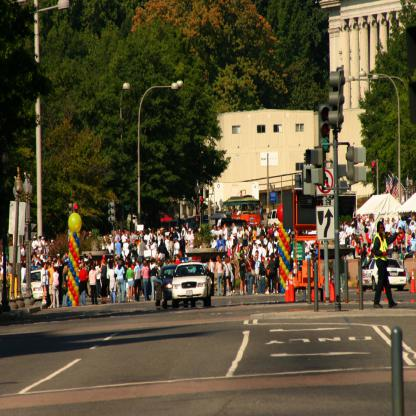Car: (170, 262, 212, 308), (363, 256, 406, 291), (155, 265, 179, 311), (20, 268, 45, 300)
